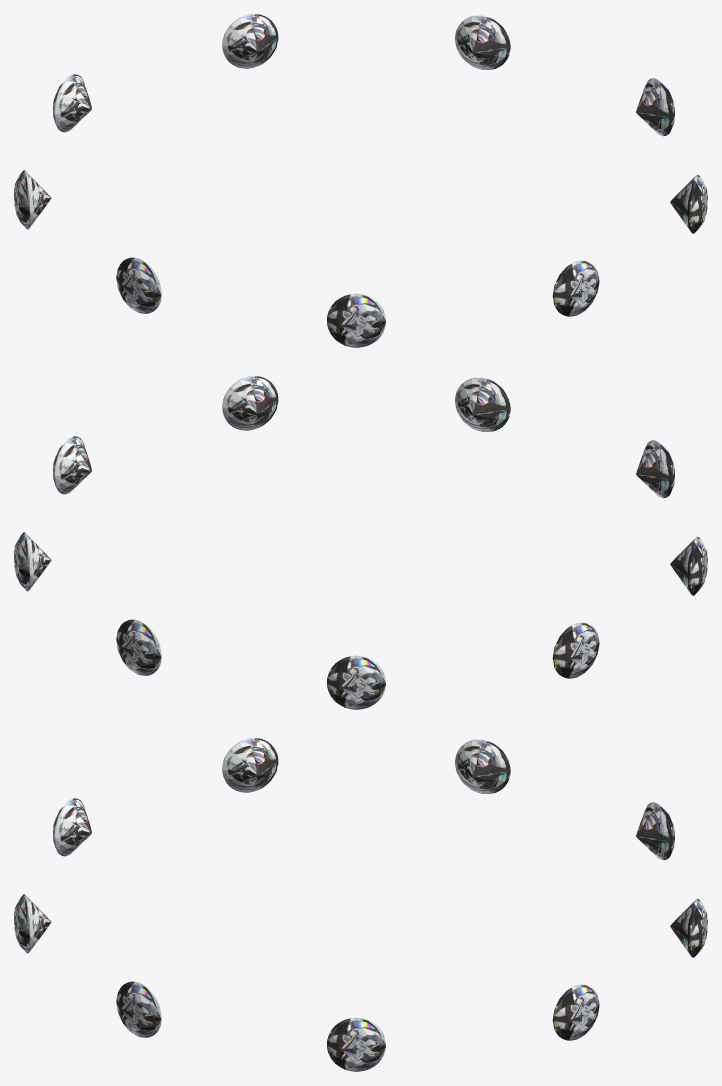
Rendered from RING 10 STONES.fbx.
The picture shows the model from 3 angles, top to bottom: view 1: azimuth 30°, elevation 25°; view 2: azimuth 150°, elevation 25°; view 3: azimuth 270°, elevation 25°; orthographic projection.
Visible parts, largest first — view 1: Object_9, Object_5, Object_4, Object_10, Object_8, Object_6, Object_3, Object_1, Object_7; view 2: Object_6, Object_1, Object_10, Object_7, Object_5, Object_3, Object_9, Object_8, Object_4; view 3: Object_3, Object_8, Object_7, Object_4, Object_1, Object_9, Object_6, Object_5, Object_10.
Part boxes in pixels (x1,y1,x2,y2): Object_9: (327,293,385,347); Object_5: (222,14,278,68); Object_4: (455,15,510,69); Object_10: (552,260,599,316); Object_8: (116,257,161,313); Object_6: (53,74,91,132); Object_3: (636,78,674,136); Object_1: (670,174,707,233); Object_7: (14,170,51,229); Object_6: (327,655,385,709); Object_1: (222,376,278,430); Object_10: (455,377,510,431); Object_7: (552,622,599,678); Object_5: (116,619,161,675); Object_3: (53,436,91,494); Object_9: (636,440,674,498); Object_8: (670,536,707,595); Object_4: (14,532,51,591); Object_3: (327,1017,385,1071); Object_8: (222,738,278,792); Object_7: (455,739,510,793); Object_4: (552,984,599,1040); Object_1: (116,981,161,1037); Object_9: (53,798,91,856); Object_6: (636,802,674,860); Object_5: (670,898,707,957); Object_10: (14,894,51,953).
Bounding box in the file's own units: 20.56 × 20.83 × 1.77.
1 material, 1 textured.
